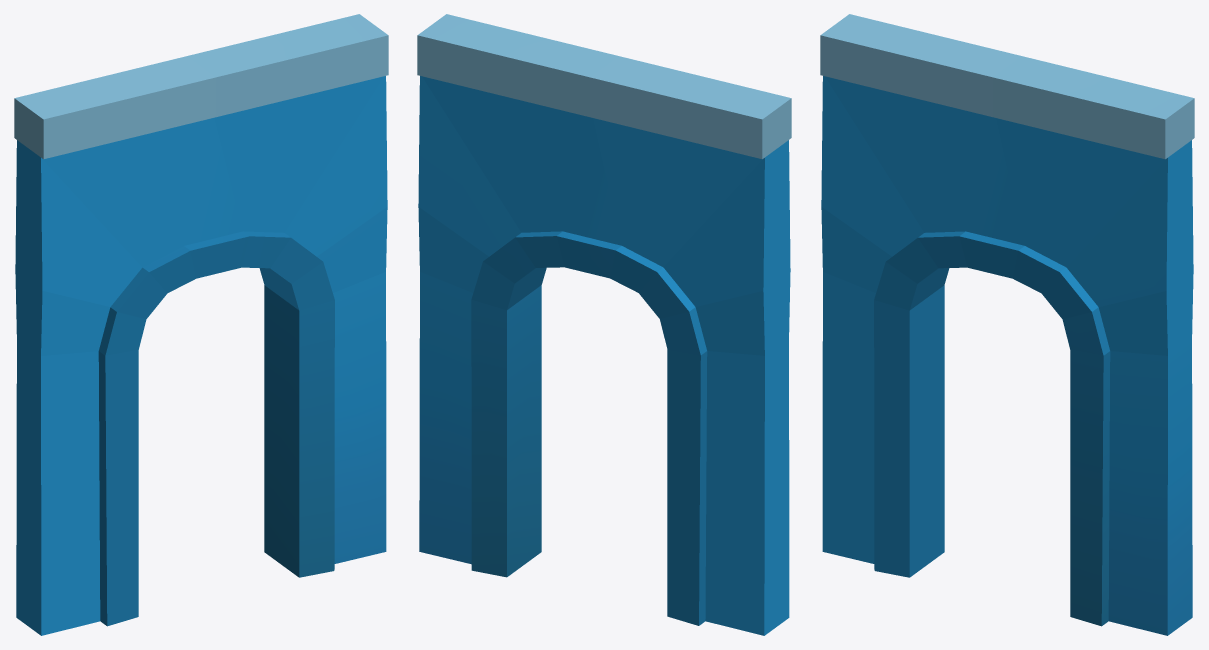
File: Door_base.fbx
The picture shows the model from 3 angles, left to right: view 1: azimuth 30°, elevation 25°; view 2: azimuth 150°, elevation 25°; view 3: azimuth 330°, elevation 25°; orthographic projection.
Parts seen in each view (by area): view 1: Plane; view 2: Plane; view 3: Plane.
Boxes of the visible parts, x1,y1,x2,y2 form: Plane: [14, 14, 388, 635]; Plane: [417, 14, 791, 635]; Plane: [820, 14, 1194, 635].
Size of the model in its own units: 372 by 534 by 71.87.
